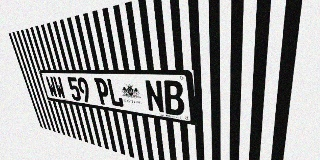5: (67, 77, 82, 101)
9: (76, 77, 92, 103)
B: (162, 80, 185, 116)
L: (106, 78, 124, 108)
N: (144, 79, 165, 114)
P: (94, 78, 111, 106)
W: (52, 76, 66, 99), (45, 76, 58, 98)
